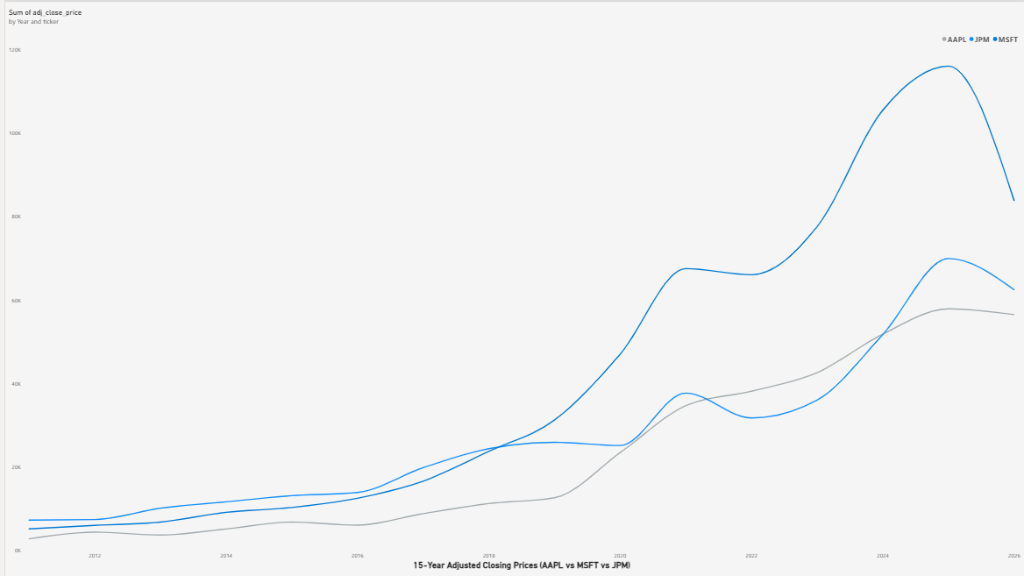

This screenshot's page, from the dashboard's own definition file:
{"tool":"powerbi","page":{"name":"Page 1","canvas":[2560,1440],"ordinal":0},"visuals":[{"type":"lineChart","fields":{"Category":["finance_platform fact_prices.trade_date.Variation.Date Hierarchy.Year","finance_platform fact_prices.trade_date.Variation.Date Hierarchy.Quarter","finance_platform fact_prices.trade_date.Variation.Date Hierarchy.Month","finance_platform fact_prices.trade_date.Variation.Date Hierarchy.Day"],"Series":["finance_platform dim_companies.ticker"],"Y":["Sum(finance_platform fact_prices.adj_close_price)"]},"box":[-8,0,2568,1440],"z":0}]}

Visuals, with their boxes in screenshot pixels (x1, y1, x2, y2), scaled from the page's 2560x1440 canvas onto the 1024x576 screenshot:
lineChart - finance_platform fact_prices.trade_date.Variation.Date Hierarchy.Year x finance_platform fact_prices.trade_date.Variation.Date Hierarchy.Quarter: (x1=0, y1=0, x2=1023, y2=575)
